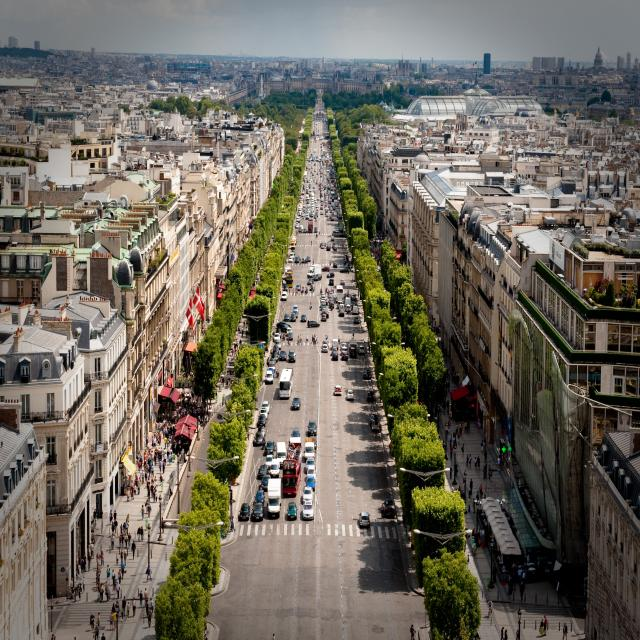body: (224, 221, 368, 364), (249, 364, 321, 522), (447, 466, 525, 596), (68, 514, 148, 635), (436, 363, 502, 461), (281, 137, 343, 221), (156, 364, 213, 442), (123, 442, 176, 506), (368, 228, 391, 305), (426, 309, 451, 362), (217, 364, 236, 394), (198, 314, 212, 340), (158, 193, 172, 210), (145, 564, 153, 583), (89, 612, 96, 631), (542, 614, 548, 636), (519, 581, 525, 602), (143, 588, 149, 608), (74, 576, 80, 596), (120, 560, 126, 580), (487, 599, 494, 615), (147, 606, 152, 628), (104, 584, 110, 602), (94, 623, 100, 640), (409, 623, 415, 640), (87, 552, 92, 572), (131, 540, 136, 560), (110, 534, 116, 550), (149, 482, 155, 498), (539, 618, 544, 637), (115, 600, 120, 618), (96, 566, 101, 584), (106, 567, 111, 585), (111, 568, 116, 586), (563, 622, 568, 640), (387, 440, 393, 455), (132, 596, 136, 618), (149, 597, 154, 614), (116, 582, 121, 599), (96, 612, 100, 633), (122, 596, 126, 617), (113, 610, 117, 630), (126, 601, 131, 617), (139, 589, 143, 609), (82, 552, 86, 572), (100, 583, 104, 603), (140, 504, 145, 520), (466, 554, 471, 570), (517, 567, 522, 583), (78, 583, 82, 602), (90, 541, 94, 560), (112, 583, 117, 598), (147, 503, 152, 518), (462, 477, 467, 492), (449, 464, 454, 479), (476, 455, 481, 470), (110, 612, 114, 630), (145, 599, 149, 617), (78, 562, 82, 580), (96, 552, 100, 570), (100, 551, 104, 569), (106, 564, 110, 582), (114, 518, 118, 536), (160, 516, 164, 534), (230, 520, 236, 532), (469, 478, 473, 496), (119, 549, 124, 563), (456, 430, 461, 444), (114, 577, 118, 594), (121, 532, 125, 549), (137, 525, 141, 542), (140, 525, 144, 542), (76, 570, 80, 586), (118, 568, 122, 584), (123, 550, 127, 566), (109, 509, 113, 525), (127, 532, 131, 548), (128, 532, 132, 548), (125, 520, 129, 536), (130, 484, 134, 500), (139, 455, 143, 471), (158, 458, 162, 474), (471, 536, 475, 552), (472, 498, 476, 514), (484, 463, 488, 479), (497, 455, 501, 471), (460, 442, 464, 458), (449, 444, 453, 460), (96, 569, 100, 584), (144, 499, 148, 514), (137, 480, 141, 495), (152, 487, 156, 502), (158, 474, 163, 486), (168, 488, 173, 500), (143, 459, 147, 474), (162, 459, 166, 474), (473, 529, 477, 544), (479, 483, 483, 498), (454, 462, 458, 477), (482, 465, 486, 480), (466, 419, 470, 434), (120, 608, 124, 622), (70, 577, 74, 591), (97, 581, 101, 595), (111, 522, 115, 536), (93, 508, 97, 522), (126, 514, 130, 528), (126, 488, 130, 502), (141, 470, 145, 484), (146, 478, 150, 492), (148, 464, 152, 478), (163, 452, 167, 466), (169, 426, 173, 440), (501, 626, 505, 640), (468, 454, 472, 468), (474, 456, 478, 470), (449, 434, 453, 448), (82, 576, 85, 594), (81, 556, 84, 574), (116, 552, 120, 565), (148, 501, 152, 514), (144, 449, 148, 462), (154, 453, 158, 466), (168, 453, 172, 466), (166, 449, 170, 462), (158, 433, 162, 446), (465, 454, 469, 467), (480, 440, 484, 453), (459, 422, 463, 435), (464, 536, 467, 553), (111, 602, 115, 614), (101, 550, 104, 566), (113, 510, 117, 522), (133, 483, 137, 495), (130, 480, 134, 492), (231, 516, 235, 528), (428, 628, 432, 640), (468, 496, 471, 512), (147, 483, 150, 498), (151, 463, 154, 478), (147, 452, 150, 467), (522, 570, 525, 585), (488, 465, 491, 480), (143, 452, 147, 463), (504, 629, 508, 640), (123, 522, 126, 536), (155, 489, 158, 503), (147, 440, 150, 454), (151, 436, 154, 450), (164, 435, 167, 449), (490, 468, 493, 482), (464, 420, 467, 434), (101, 632, 106, 640), (162, 418, 166, 428), (88, 543, 91, 556), (120, 523, 123, 536), (119, 534, 122, 547), (144, 470, 147, 483), (138, 460, 141, 473), (167, 436, 170, 449), (484, 450, 487, 463), (453, 430, 456, 443), (95, 573, 98, 585), (139, 474, 142, 486), (139, 454, 142, 466), (136, 452, 139, 464), (146, 462, 149, 474), (153, 436, 156, 448), (155, 420, 158, 432), (162, 426, 165, 438), (222, 393, 225, 405), (305, 333, 309, 342), (380, 502, 384, 511), (471, 528, 475, 537), (455, 423, 458, 435), (447, 419, 451, 428), (203, 633, 208, 640), (97, 556, 100, 567), (163, 448, 166, 459), (158, 425, 161, 436), (182, 382, 185, 393), (516, 629, 519, 640), (476, 490, 479, 501), (148, 448, 152, 456), (262, 436, 266, 444), (228, 519, 230, 535), (98, 573, 100, 588), (98, 578, 100, 593), (125, 537, 128, 547), (135, 477, 138, 487), (151, 475, 154, 485), (154, 476, 157, 486), (168, 437, 171, 447), (287, 336, 290, 346), (299, 336, 302, 346), (311, 334, 314, 344), (478, 529, 481, 539), (148, 488, 150, 502), (146, 436, 148, 450), (275, 368, 279, 375), (158, 420, 161, 429), (171, 452, 173, 465), (78, 558, 81, 566), (133, 480, 136, 488), (151, 454, 154, 462), (150, 450, 154, 456), (169, 448, 173, 454), (215, 388, 218, 396), (315, 335, 318, 343), (352, 330, 355, 338), (279, 289, 282, 297), (294, 288, 297, 296), (95, 515, 97, 526), (154, 432, 156, 443), (135, 472, 138, 479), (160, 447, 163, 454), (272, 631, 275, 638), (148, 475, 150, 485), (158, 450, 160, 460), (156, 433, 158, 443), (452, 484, 454, 494), (51, 634, 54, 640), (94, 517, 96, 526), (160, 452, 162, 461), (264, 348, 266, 357), (270, 332, 272, 341), (272, 330, 275, 336), (314, 336, 316, 345), (312, 259, 315, 265), (135, 478, 137, 486), (156, 484, 158, 492), (300, 334, 302, 342), (313, 335, 315, 343), (292, 288, 294, 296), (296, 288, 298, 296), (304, 286, 306, 294), (321, 286, 323, 294), (138, 451, 141, 456), (158, 447, 161, 452), (154, 485, 156, 492), (306, 287, 308, 294), (320, 288, 322, 295), (331, 285, 333, 292), (146, 434, 148, 440), (310, 301, 312, 307), (347, 288, 349, 294), (54, 635, 56, 640), (289, 287, 290, 295), (354, 282, 356, 286), (324, 242, 326, 246), (282, 280, 283, 286), (311, 240, 312, 246), (319, 230, 320, 236), (316, 233, 317, 238)
